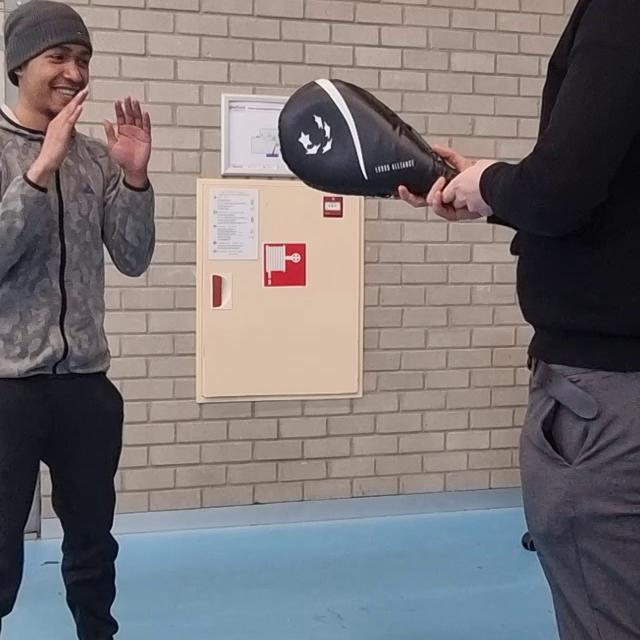paddle: (280, 79, 466, 200)
